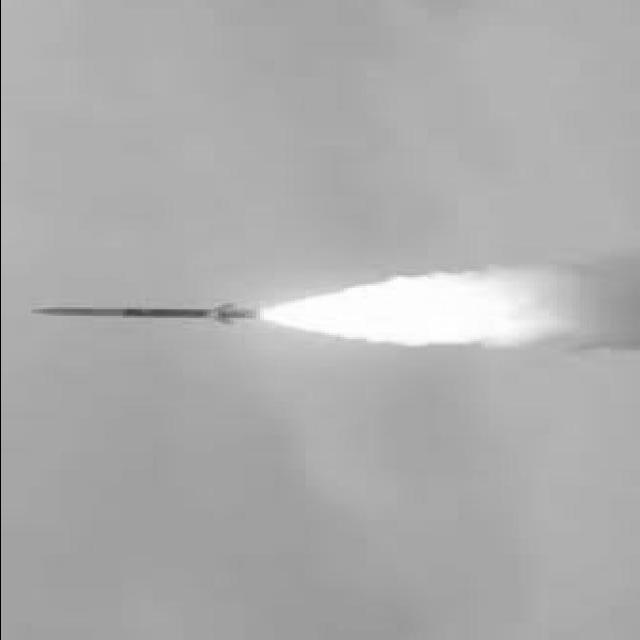missile: (27, 301, 281, 323)
